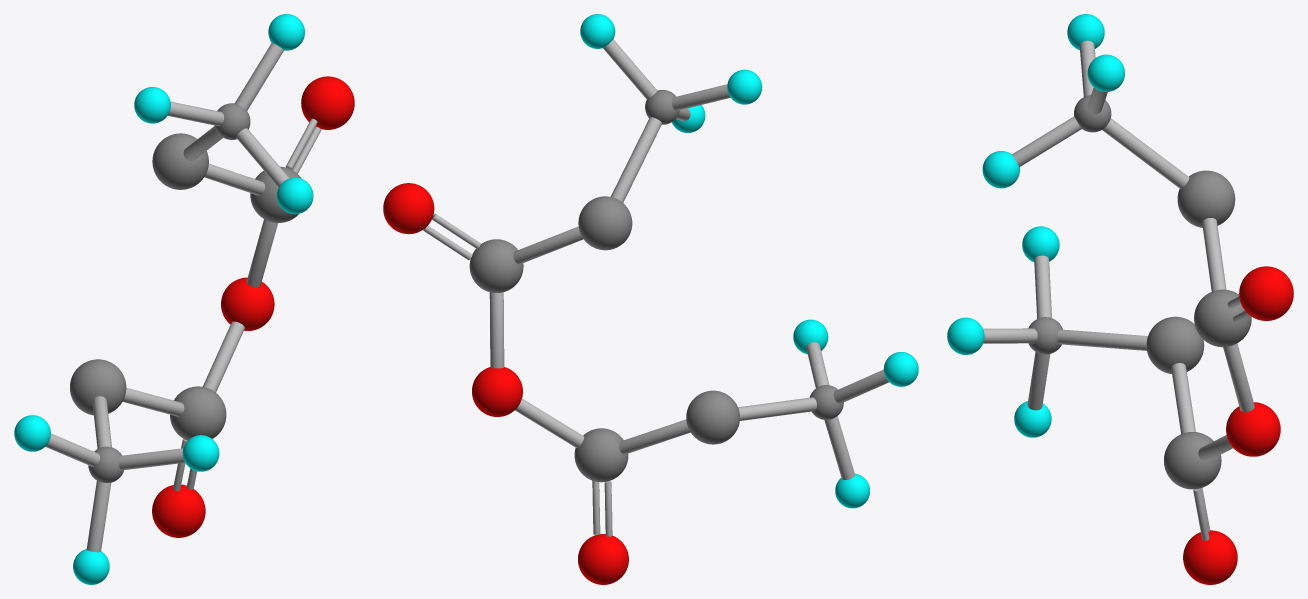
File: acetic anhydride.glb
The picture shows the model from 3 angles, left to right: view 1: azimuth 30°, elevation 25°; view 2: azimuth 150°, elevation 25°; view 3: azimuth 270°, elevation 25°; orthographic projection. The views are drawn at different scales.
Parts seen in each view (by area): view 1: CMAtom_1, CMAtom_0, CMAtom_6, CMAtom_2, CMAtom_4, CMAtom_5, CMAtom_3, CMBond_1_Segment_0, CMAtom_10, CMAtom_11, CMAtom_14, CMBond_11_Segment_0 (+15 smaller); view 2: CMAtom_0, CMAtom_1, CMAtom_3, CMAtom_2, CMAtom_6, CMAtom_4, CMAtom_5, CMBond_9_Segment_0, CMBond_10_Segment_0, CMBond_6_Segment_0, CMBond_1_Segment_0, CMBond_7_Segment_0 (+12 smaller); view 3: CMAtom_0, CMAtom_1, CMAtom_6, CMAtom_2, CMAtom_3, CMAtom_4, CMAtom_5, CMBond_9_Segment_0, CMBond_10_Segment_0, CMAtom_11, CMBond_13_Segment_0, CMBond_8_Segment_0 (+14 smaller).
Part boxes in pixels (x1,y1,x2,y2): CMAtom_1: [70, 359, 126, 415]; CMAtom_0: [152, 133, 208, 189]; CMAtom_6: [301, 76, 354, 129]; CMAtom_2: [170, 386, 226, 440]; CMAtom_4: [152, 484, 205, 537]; CMAtom_5: [221, 277, 274, 330]; CMAtom_3: [250, 166, 301, 222]; CMBond_1_Segment_0: [203, 321, 244, 392]; CMAtom_10: [14, 415, 50, 451]; CMAtom_11: [182, 435, 219, 471]; CMAtom_14: [276, 177, 313, 214]; CMBond_11_Segment_0: [234, 43, 283, 110]; CMAtom_0: [578, 196, 632, 250]; CMAtom_1: [686, 390, 739, 444]; CMAtom_3: [469, 239, 523, 292]; CMAtom_2: [574, 428, 628, 482]; CMAtom_6: [383, 183, 434, 234]; CMAtom_4: [578, 534, 628, 584]; CMAtom_5: [472, 367, 522, 416]; CMBond_9_Segment_0: [610, 117, 662, 202]; CMBond_10_Segment_0: [738, 397, 816, 420]; CMBond_6_Segment_0: [489, 292, 504, 368]; CMBond_1_Segment_0: [515, 398, 584, 447]; CMBond_7_Segment_0: [619, 419, 690, 454]; CMAtom_0: [1177, 170, 1235, 227]; CMAtom_1: [1146, 316, 1204, 373]; CMAtom_6: [1239, 266, 1293, 320]; CMAtom_2: [1164, 432, 1221, 489]; CMAtom_3: [1194, 289, 1251, 347]; CMAtom_4: [1183, 530, 1237, 584]; CMAtom_5: [1226, 402, 1280, 456]; CMBond_9_Segment_0: [1102, 118, 1189, 188]; CMBond_10_Segment_0: [1057, 329, 1147, 350]; CMAtom_11: [947, 317, 984, 354]; CMBond_13_Segment_0: [1012, 116, 1081, 166]; CMBond_8_Segment_0: [1202, 218, 1226, 291].
Size of the model in its own units: 5.6 by 6.53 by 3.7.
